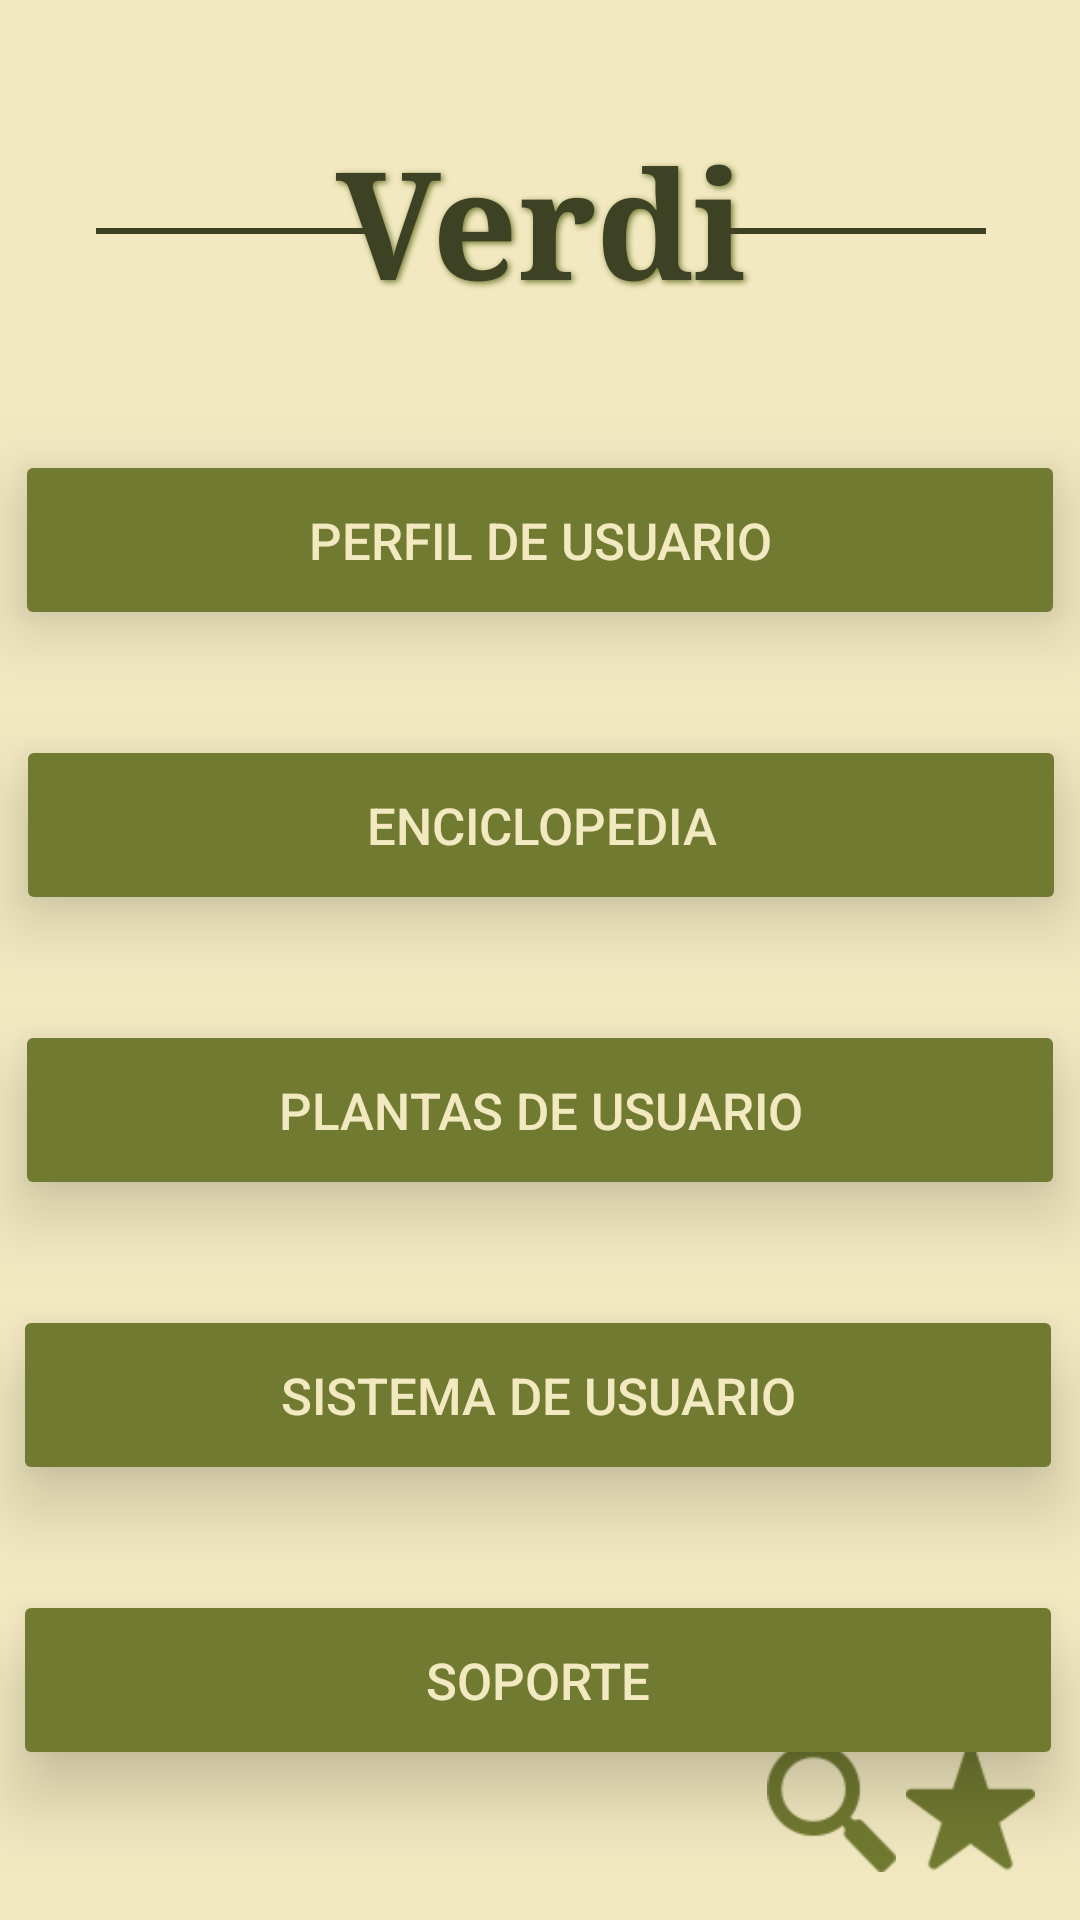

Where to tap for icons on this 1080px×1920px app screen, as point (x, y):
busqueda: point (831, 1807)
logro: point (970, 1807)
